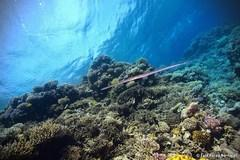Fistularia commersonii: (73, 63, 201, 94)
